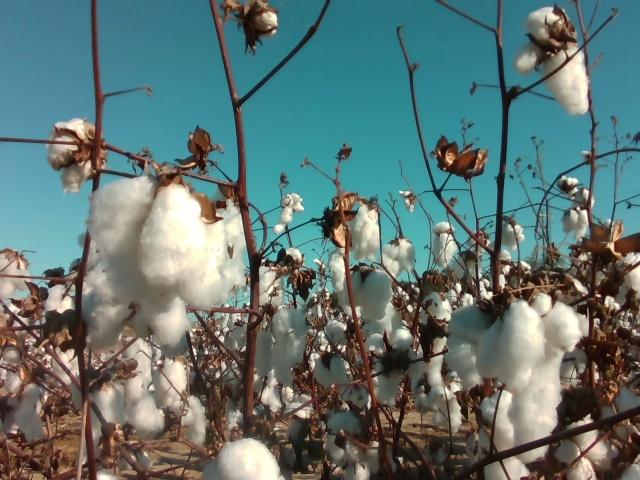cotton_ready: (88, 176, 225, 344), (449, 294, 580, 461), (517, 6, 589, 117), (72, 363, 141, 456), (559, 415, 640, 480), (428, 294, 464, 435), (205, 190, 248, 291), (366, 330, 425, 402), (326, 411, 382, 480), (51, 120, 105, 191), (1, 366, 47, 442), (203, 438, 286, 480), (130, 396, 205, 440), (271, 308, 306, 379), (486, 458, 597, 480), (350, 264, 394, 318), (121, 338, 155, 402), (0, 249, 34, 298), (155, 356, 189, 403), (614, 251, 640, 301)
